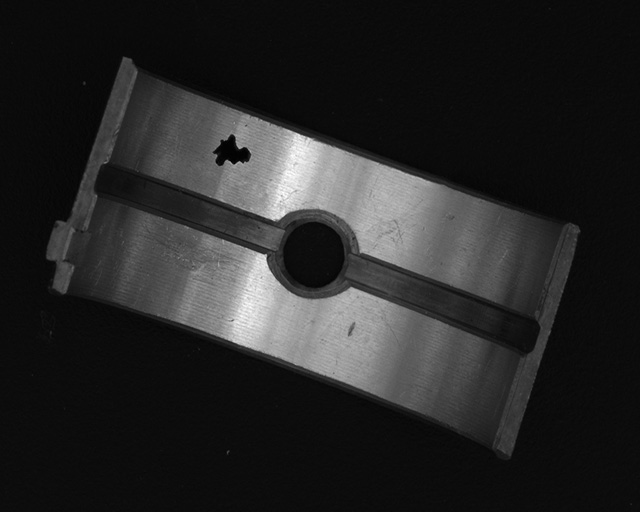blot: (211, 133, 252, 167)
bruise: (346, 320, 355, 338)
gap: (346, 255, 536, 352), (95, 164, 284, 249)
hole: (275, 210, 352, 292)
scratch: (132, 218, 248, 276)
